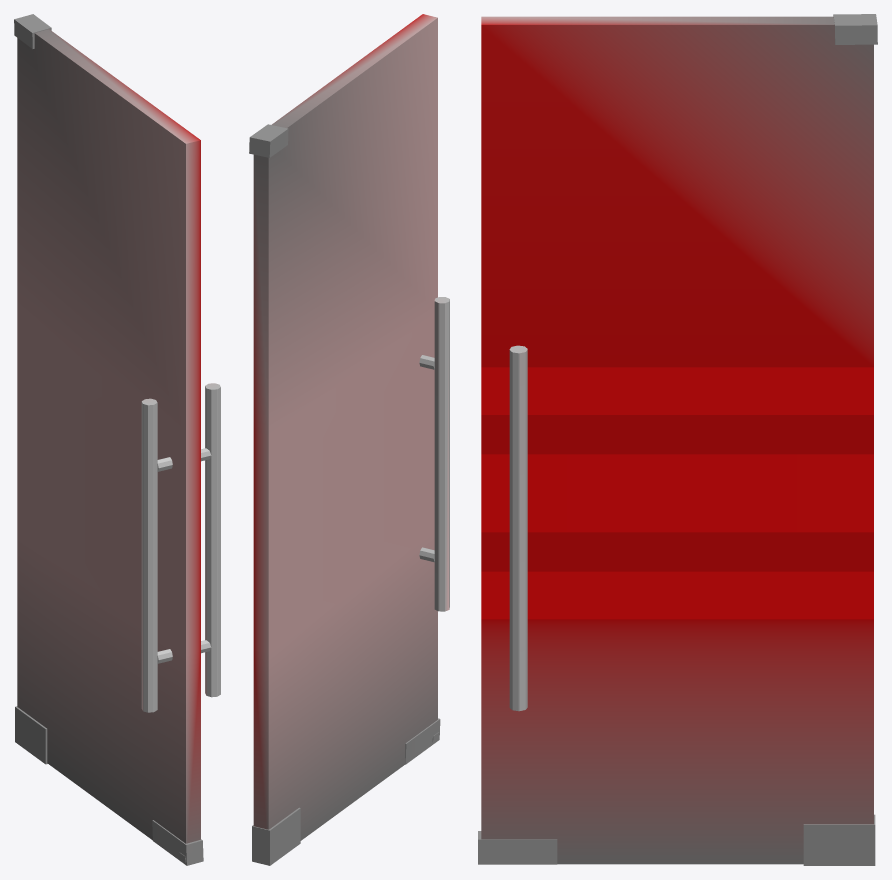
Rendered from SM_GDR123.001.fbx.
The picture shows the model from 3 angles, left to right: view 1: azimuth 30°, elevation 25°; view 2: azimuth 150°, elevation 25°; view 3: azimuth 270°, elevation 25°; orthographic projection. The views are drawn at different scales.
Visible parts, largest first — view 1: GDR123.001; view 2: GDR123.001; view 3: GDR123.001.
Part boxes in pixels (<box>): GDR123.001: <box>14,14,220,865</box>; GDR123.001: <box>249,14,449,865</box>; GDR123.001: <box>478,14,877,865</box>.
Size of the model in its own units: 29.99 by 269 by 116.
